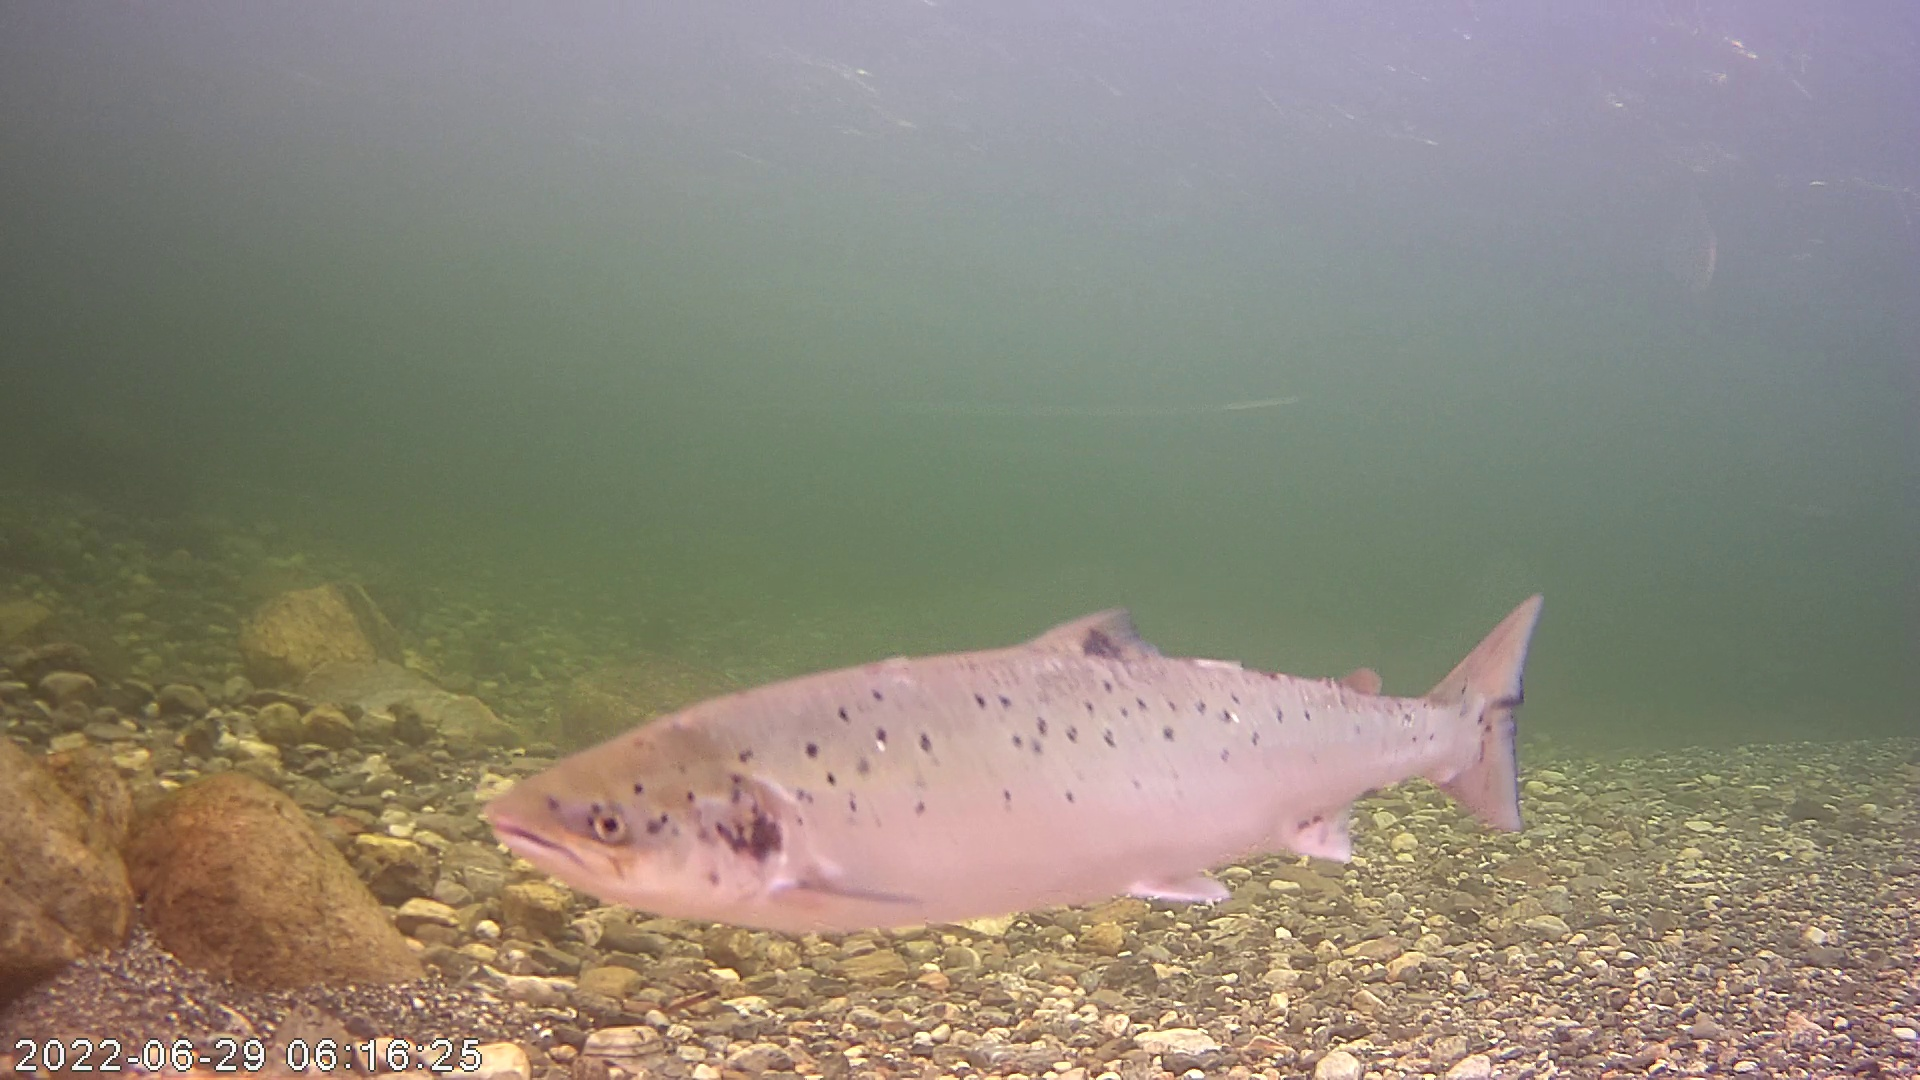salmon: (479, 582, 1553, 938)
